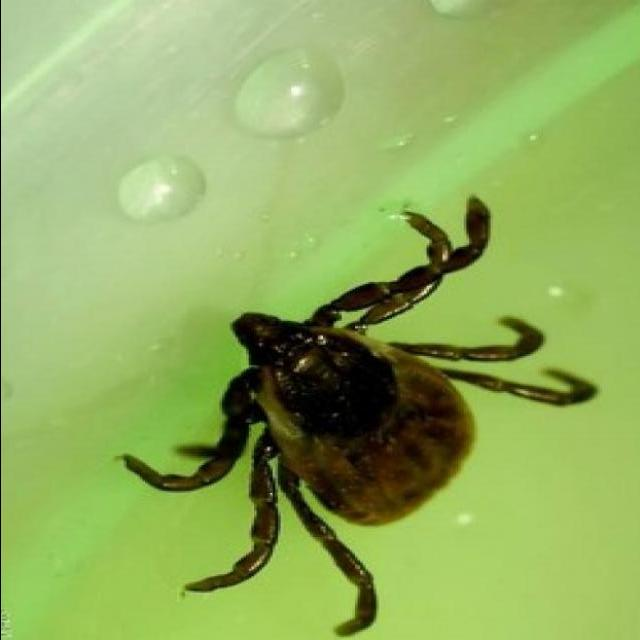Rhipicephalus Sanguineus-F: (123, 195, 596, 635)
